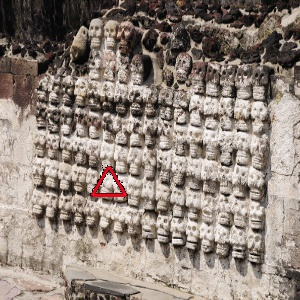triangle: (84, 163, 133, 203)
